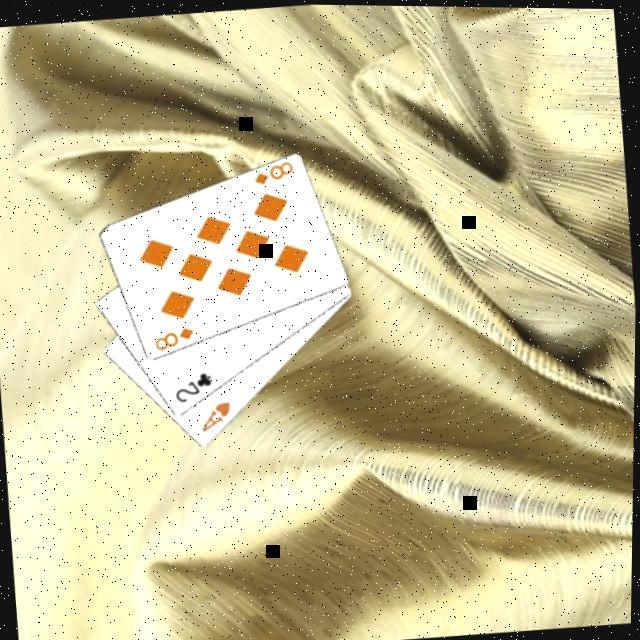2C: (170, 369, 216, 408)
8D: (248, 157, 296, 190), (149, 324, 197, 356)
AH: (194, 398, 235, 438)
